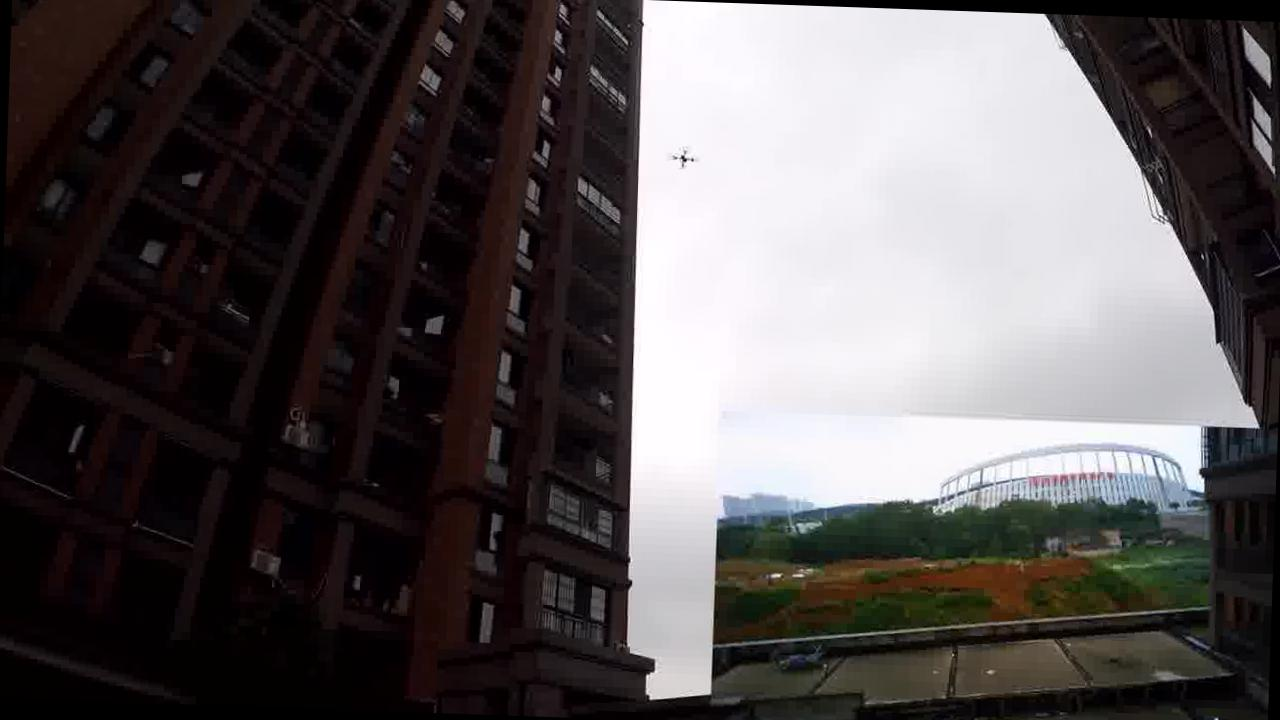drone: (662, 144, 704, 172)
